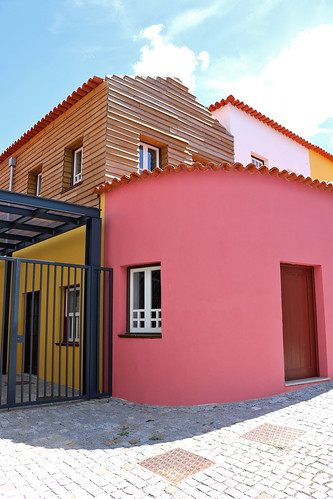medium: (3, 67, 332, 407)
